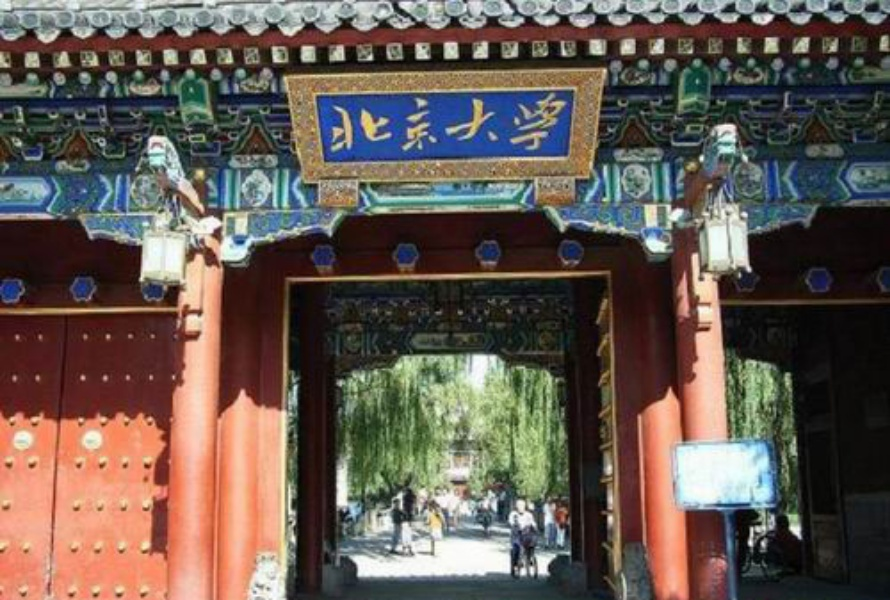text: (337, 93, 352, 157), (353, 93, 368, 157), (369, 93, 384, 157), (385, 93, 400, 157), (401, 93, 416, 157), (417, 93, 432, 157), (433, 93, 448, 157), (449, 93, 464, 157), (465, 93, 480, 157), (481, 93, 496, 157), (497, 93, 512, 157), (513, 93, 528, 157), (529, 93, 544, 157), (545, 93, 560, 157), (328, 93, 336, 157), (561, 93, 568, 157)
